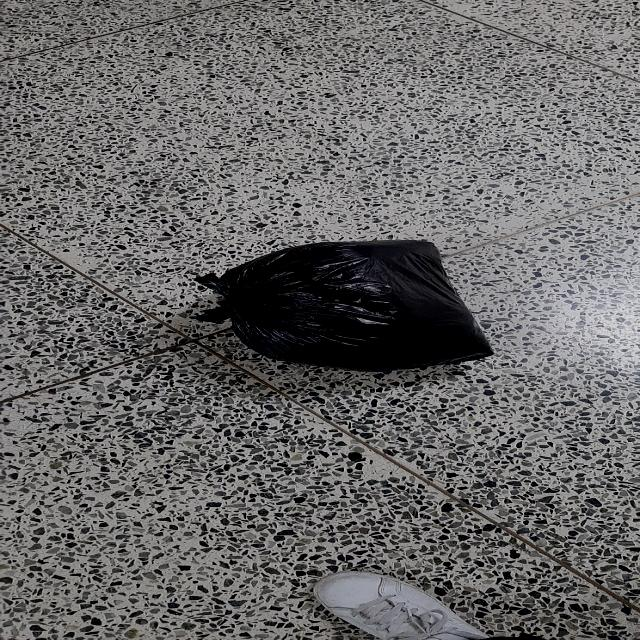black_bag: (192, 240, 493, 370)
